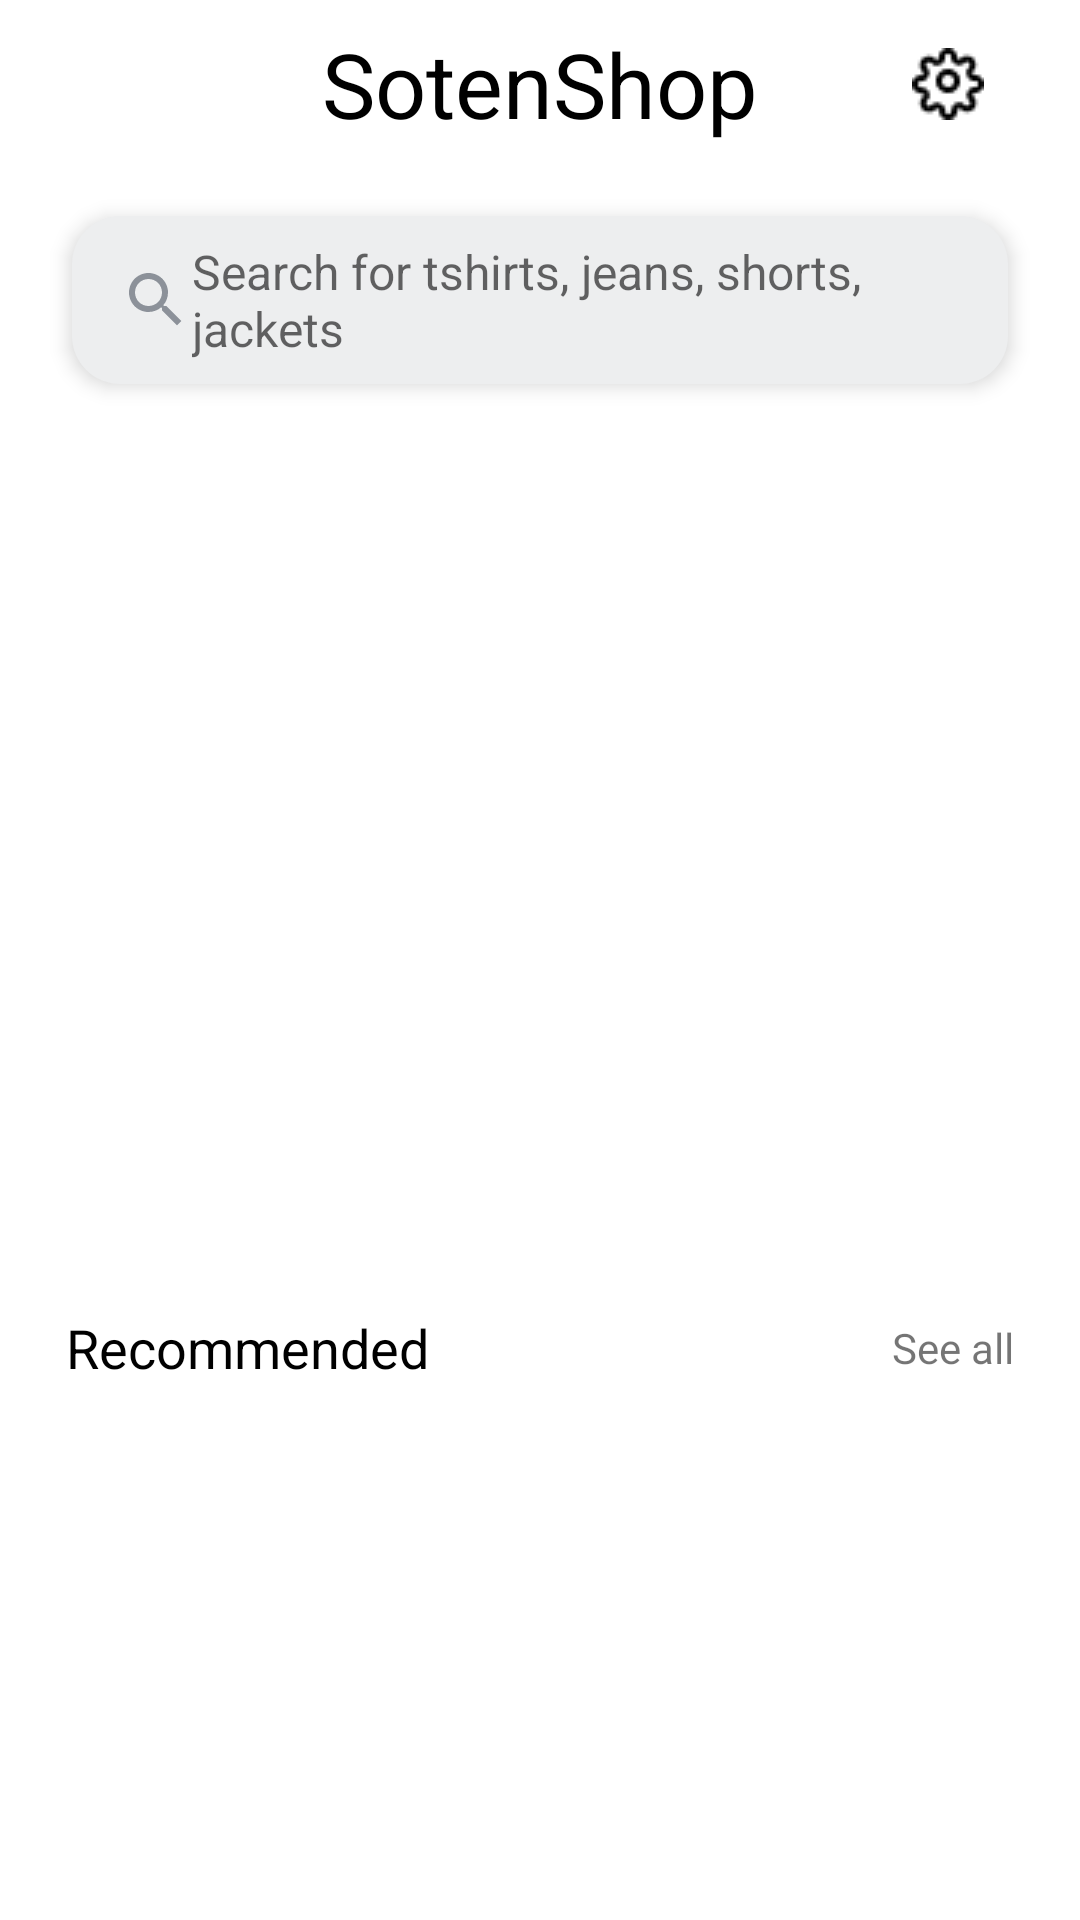

Icon bounding boxes for this 1080×1920 phone screenshot, format (x1, y1, x2, y2):
setting: (912, 48, 984, 120)
